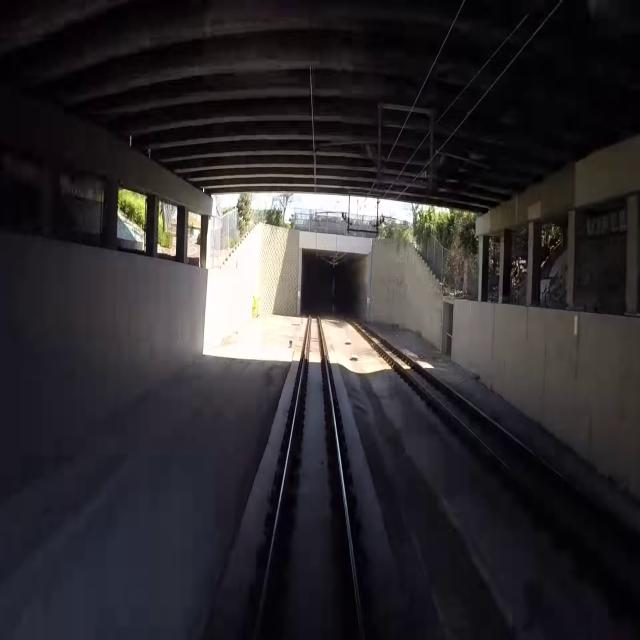rail-track: (350, 318, 640, 588), (260, 313, 359, 639)
